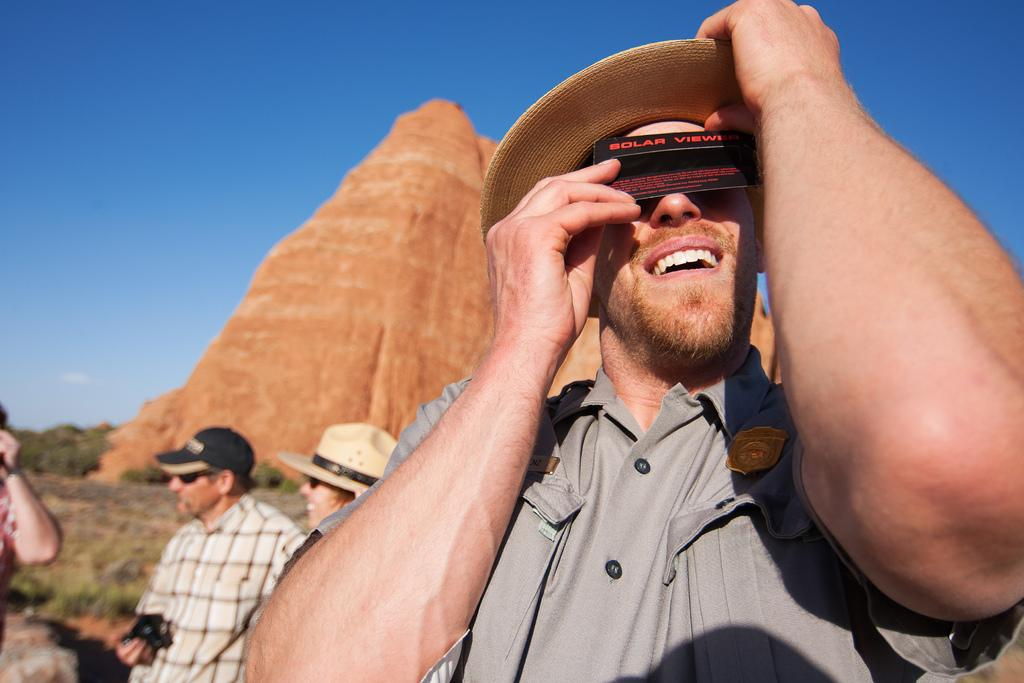Hat: (478, 36, 763, 238), (278, 418, 398, 492), (152, 421, 260, 483)
